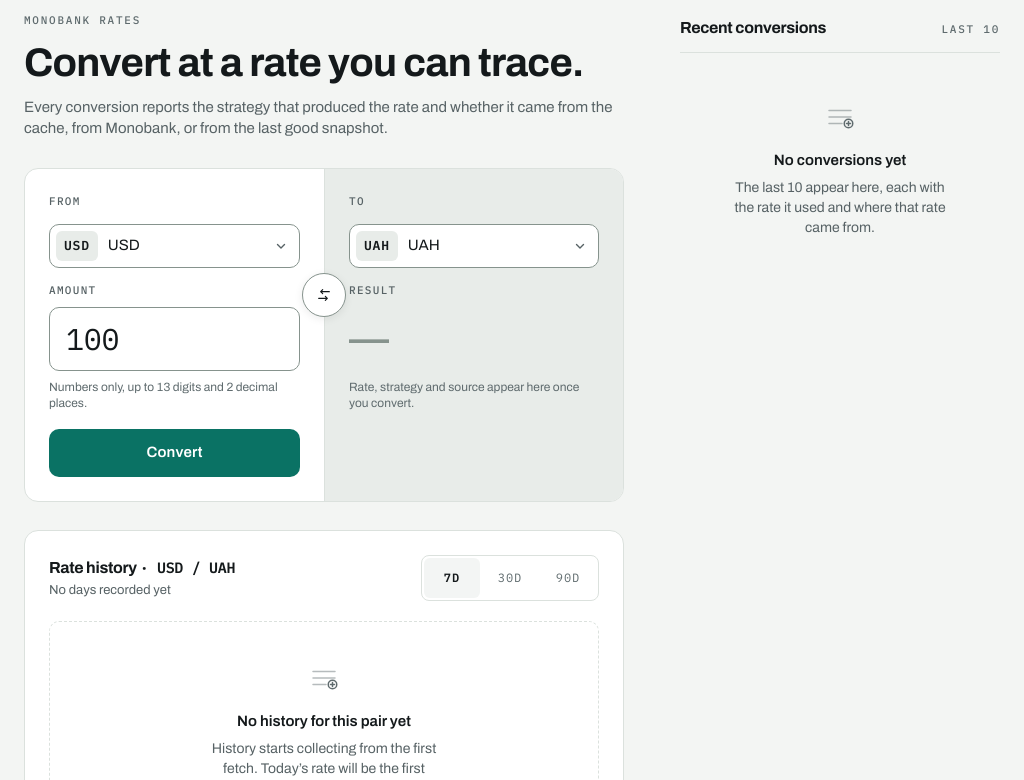
Test case: converting while the API is unreachable › answers from the persisted snapshot and says the rate is an estimate
Click the button "Convert": (174, 453) [49,429,300,477]
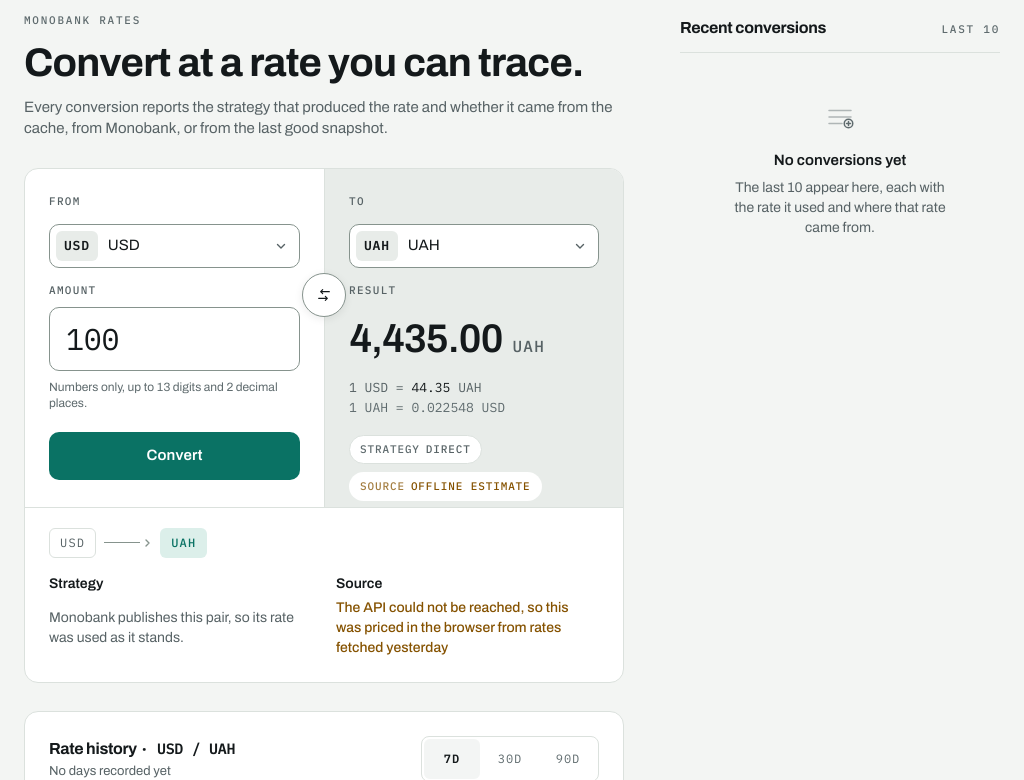
Check: the text "Strategy" shows "4,435.00 UAH", box [24,168,624,683]
Check: the text "Strategy" shows "1 UAH = 0.022548 USD", box [349,399,505,416]
Check: the text "offline estimate" is shown, box [411,479,531,493]
